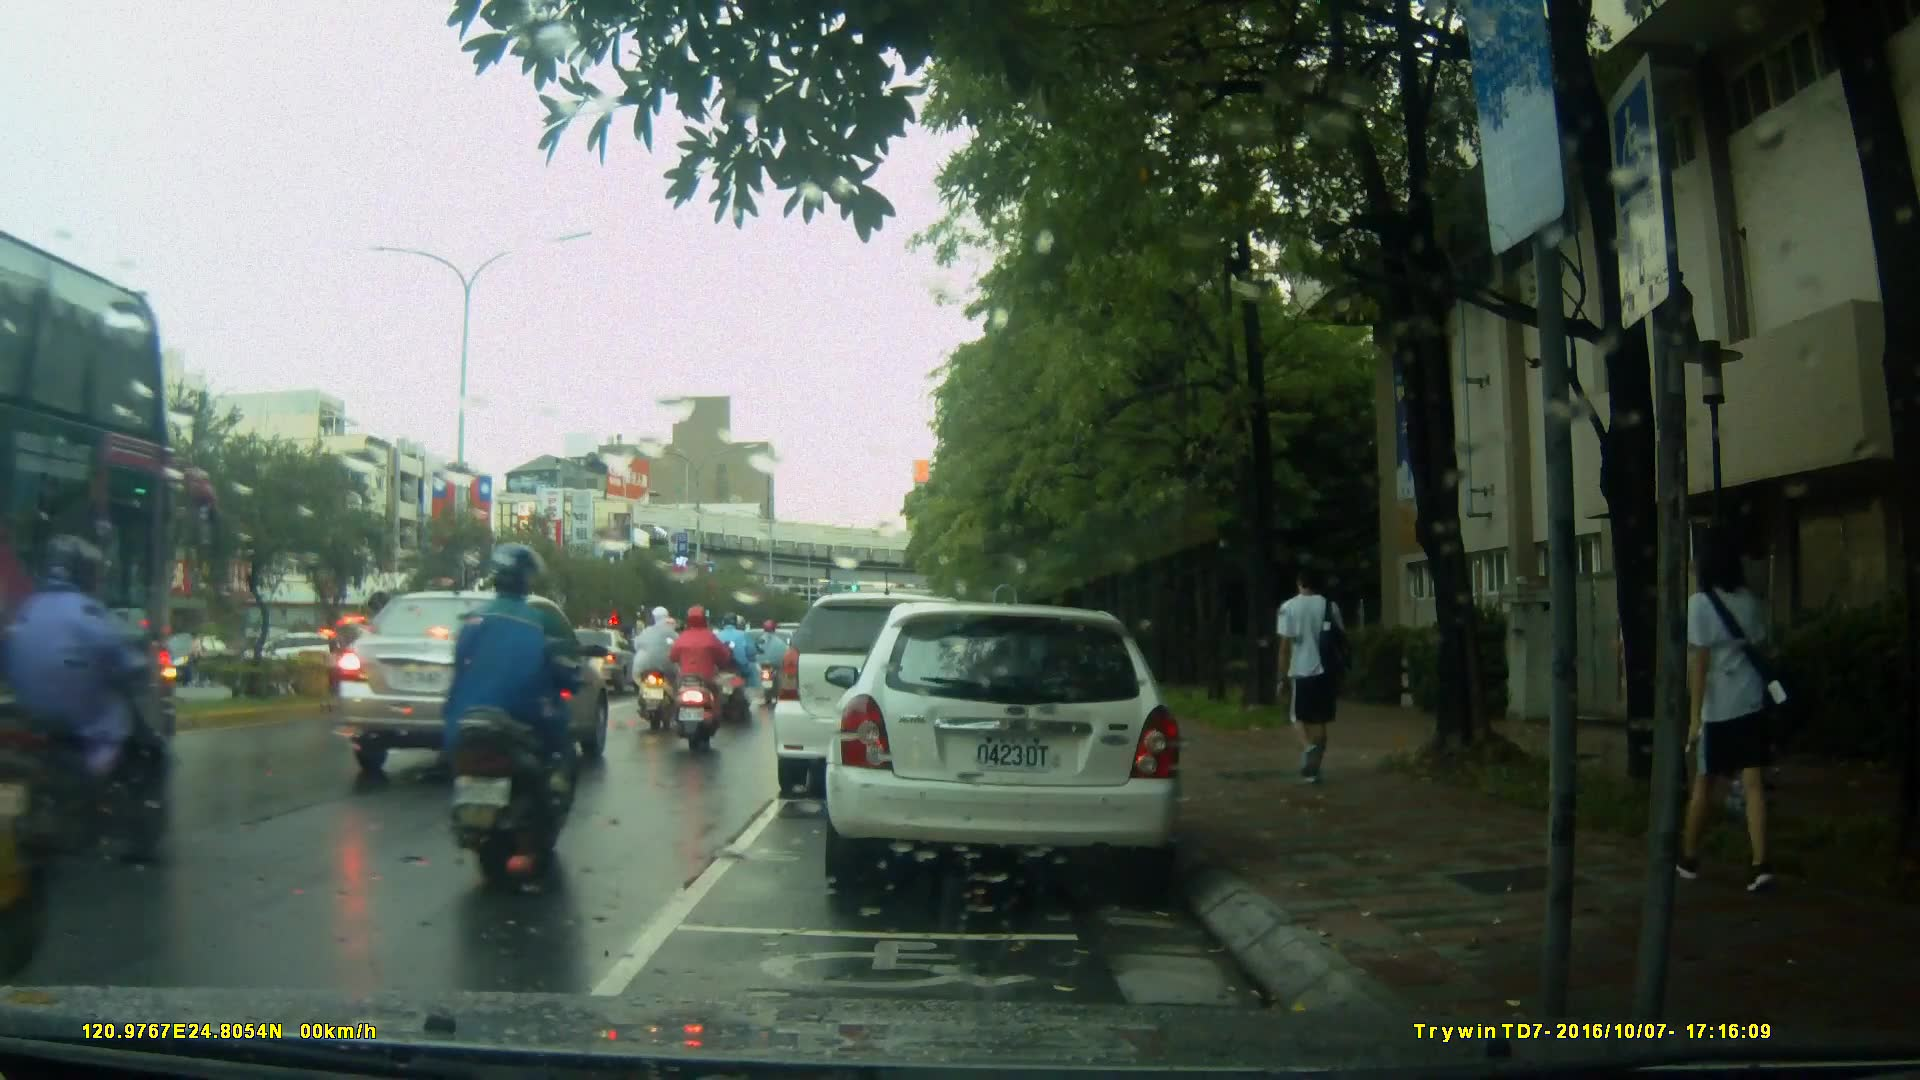pedestrian: (1, 523, 168, 868), (1656, 526, 1775, 901), (1271, 554, 1372, 806)
rider: (441, 543, 584, 889), (664, 605, 731, 758), (630, 603, 685, 737), (710, 611, 761, 716), (754, 616, 789, 711)
vehicle: (822, 604, 1188, 882), (336, 588, 616, 778), (774, 595, 995, 802), (543, 626, 641, 698), (144, 630, 241, 686)
